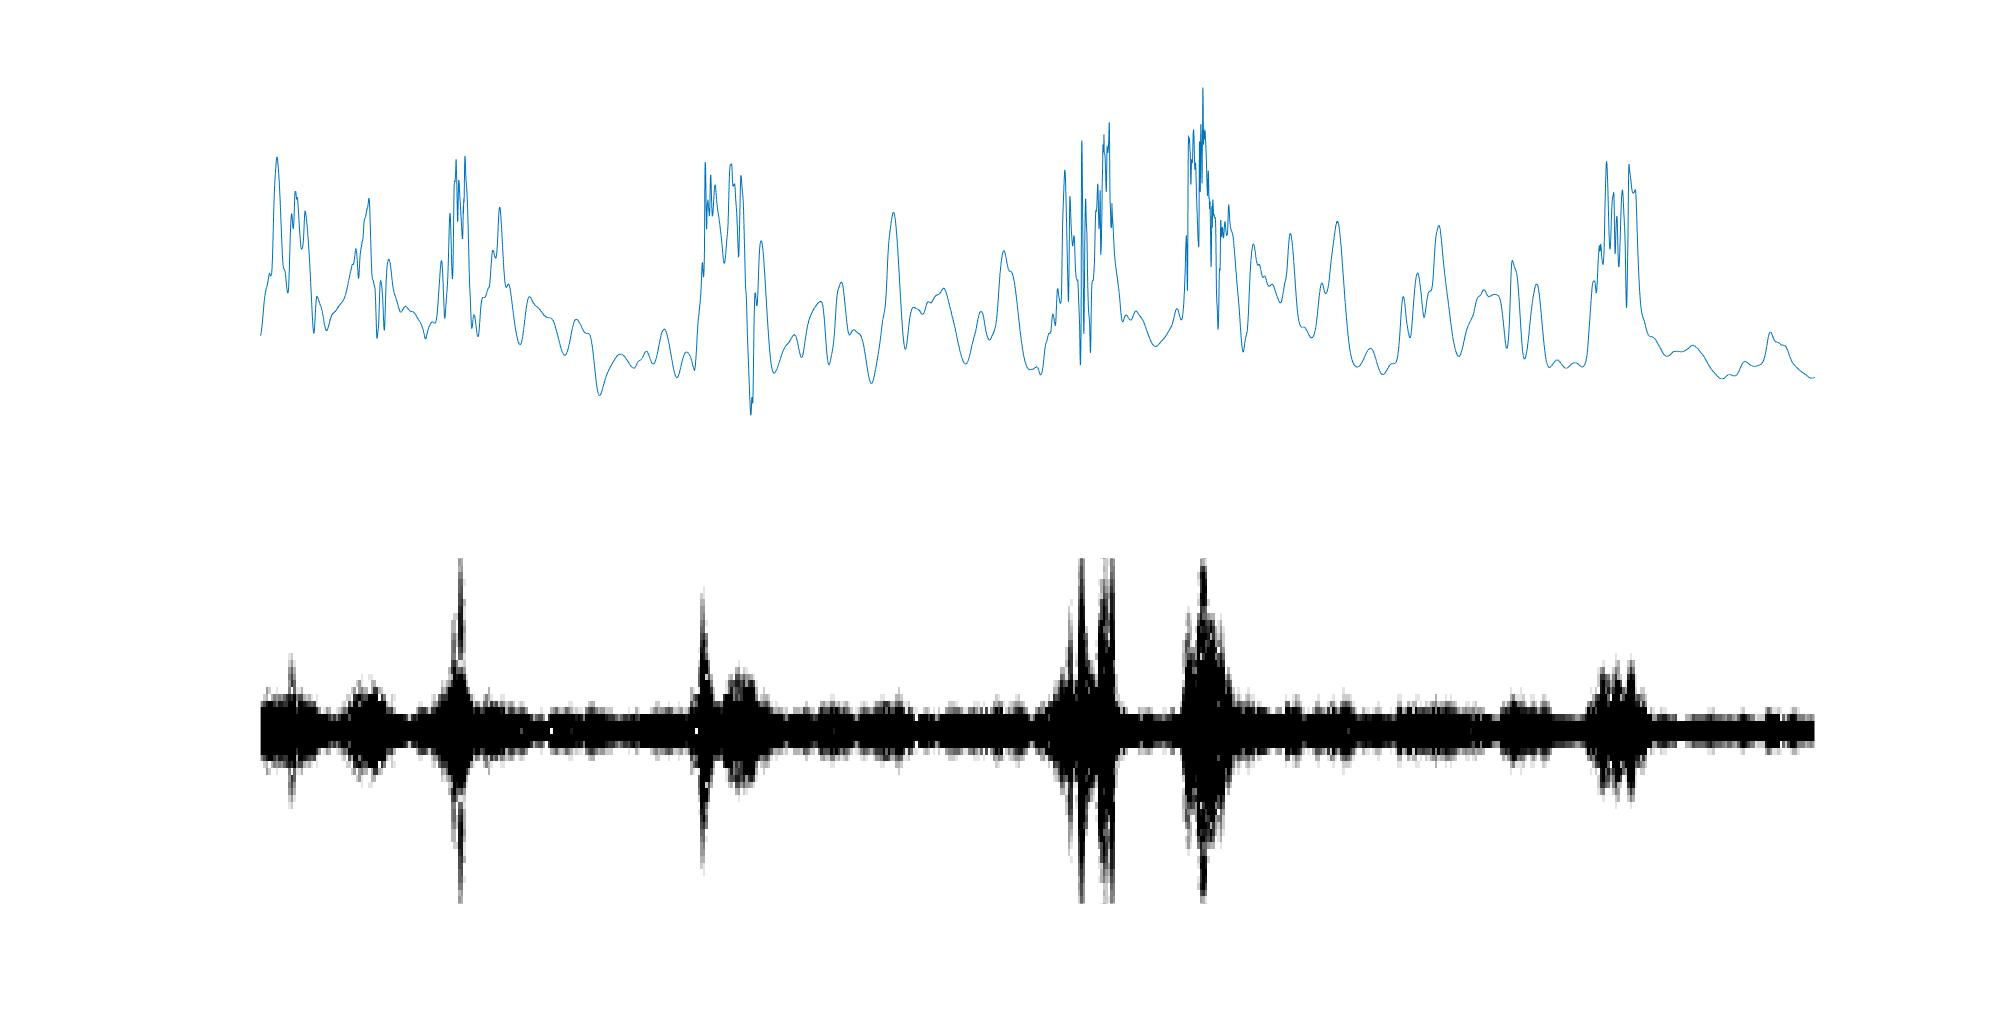spot: (1044, 556, 1120, 908), (1183, 559, 1234, 905), (448, 560, 478, 908)
